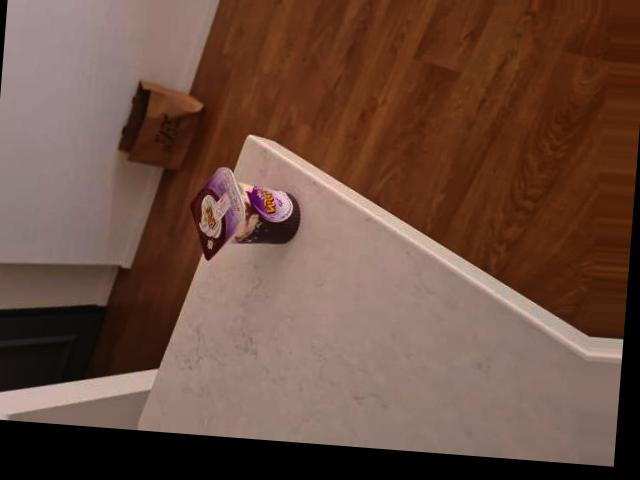milky: (187, 169, 300, 261)
